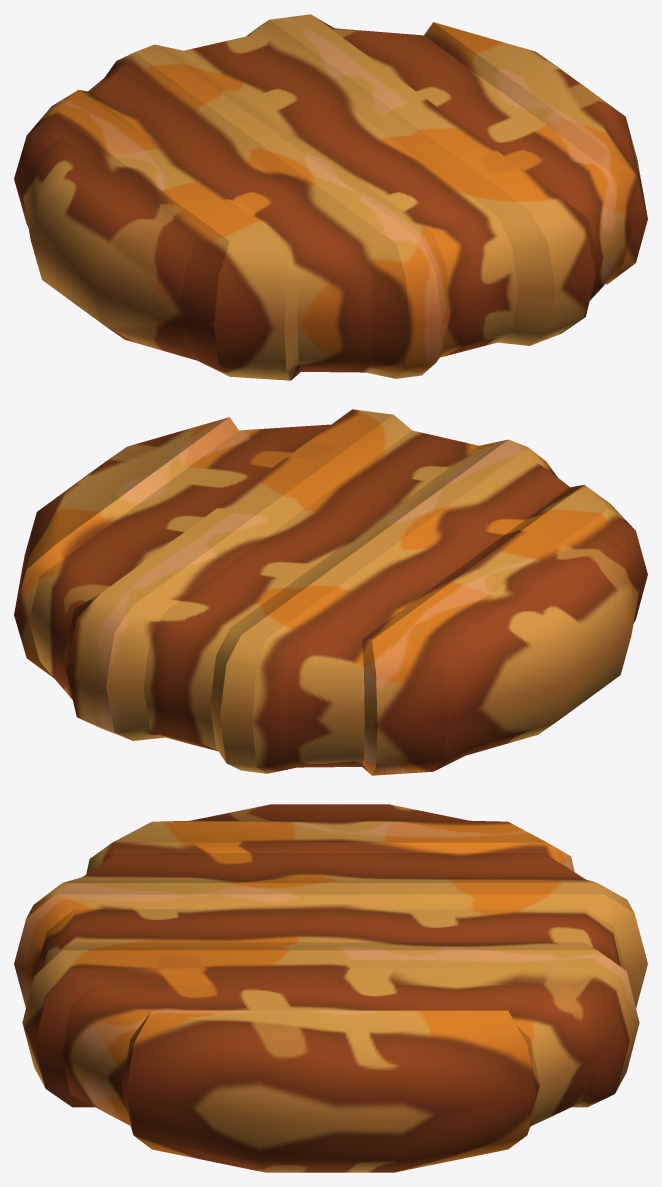
File: Chicken_Meat_01_Patty_Ready.fbx
3 views of the same model, one above another, from view 1: azimuth 30°, elevation 25°; view 2: azimuth 150°, elevation 25°; view 3: azimuth 270°, elevation 25° (orthographic). The views are drawn at different scales.
Visible parts, largest first — view 1: Chicken_Meat_01_Patty_Ready; view 2: Chicken_Meat_01_Patty_Ready; view 3: Chicken_Meat_01_Patty_Ready.
Part boxes in pixels (x1,y1,x2,y2): Chicken_Meat_01_Patty_Ready: (14,14,647,380); Chicken_Meat_01_Patty_Ready: (14,409,647,775); Chicken_Meat_01_Patty_Ready: (14,804,647,1172).
Bounding box in the file's own units: 28.23 × 6.79 × 28.09.
